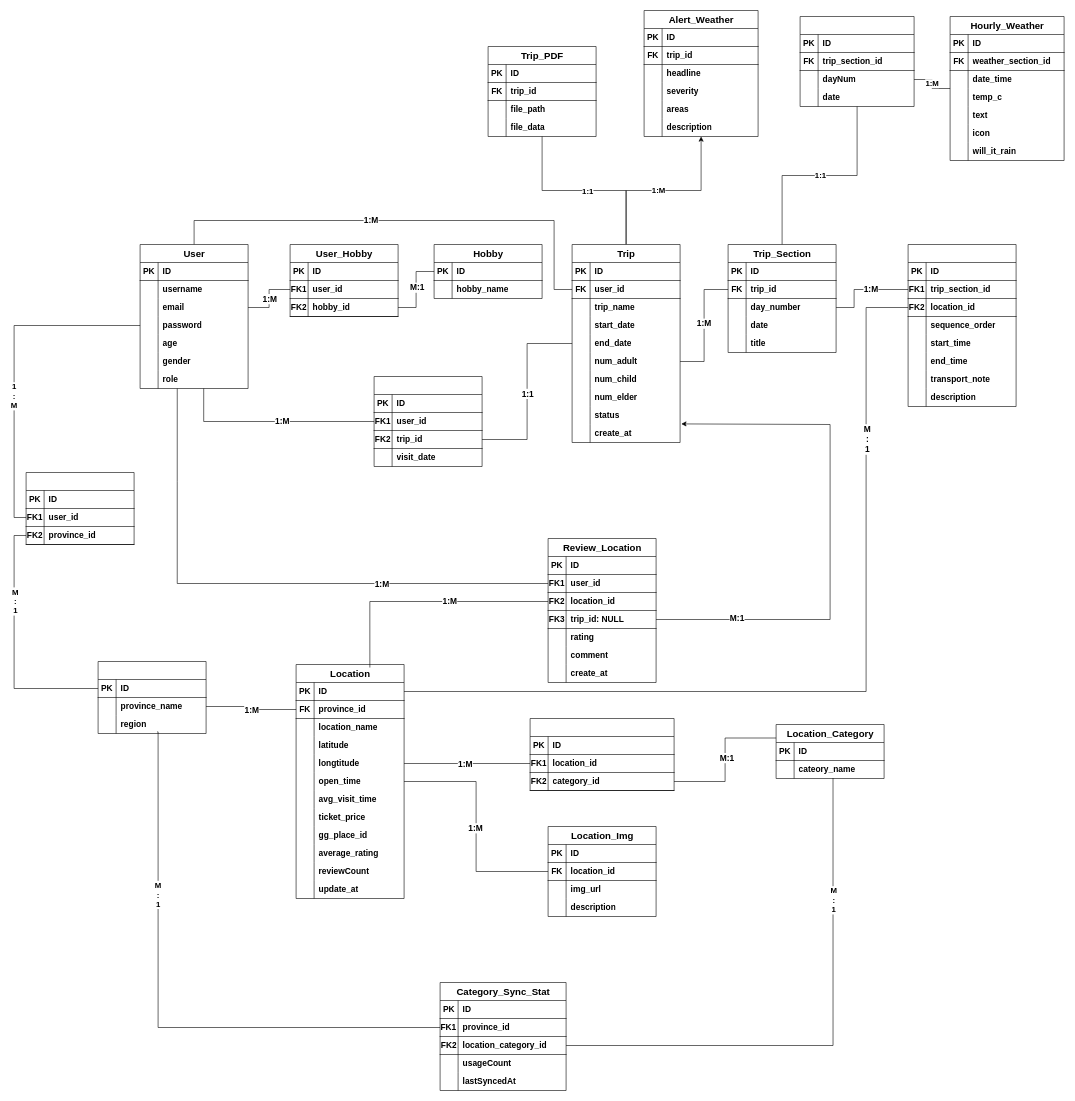
The diagram is 1075 pixels wide and 1101 high, and some of its shapes have lost their labels. The box of each missing label's shape, as (x1, y1, x2, y2) in pixels:
Location_Category_Map: (530, 718, 674, 790)
Provinces: (98, 661, 206, 734)
Trip_Detail: (908, 244, 1016, 406)
Trip_History: (374, 376, 482, 466)
visited_province: (26, 472, 134, 544)
Weather_Section: (800, 16, 914, 106)
